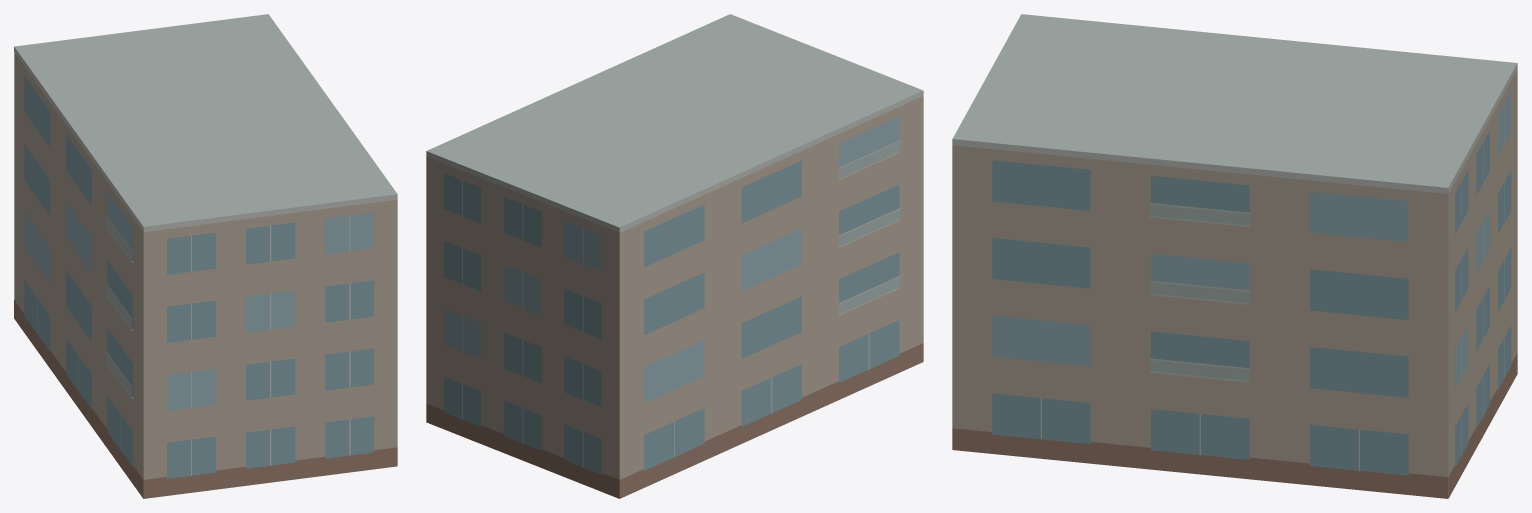
The model's file is residential-d56b8b9f-b2ba-441b-95d6-5d673cd5bf8f.glb.
3 renders of one model, left to right at view 1: azimuth 30°, elevation 25°; view 2: azimuth 150°, elevation 25°; view 3: azimuth 270°, elevation 25°, orthographic. The views are drawn at different scales.
Visible parts, largest first — view 1: residential-d56b8b9f-b2ba-441b-95d6-5d673cd5bf8f.tmp; view 2: residential-d56b8b9f-b2ba-441b-95d6-5d673cd5bf8f.tmp; view 3: residential-d56b8b9f-b2ba-441b-95d6-5d673cd5bf8f.tmp.
Boxes of the visible parts, x1,y1,x2,y2 form: residential-d56b8b9f-b2ba-441b-95d6-5d673cd5bf8f.tmp: [14, 14, 397, 498]; residential-d56b8b9f-b2ba-441b-95d6-5d673cd5bf8f.tmp: [426, 14, 923, 498]; residential-d56b8b9f-b2ba-441b-95d6-5d673cd5bf8f.tmp: [952, 14, 1517, 498].
Size of the model in its own units: 14.64 by 12.2 by 20.1.
